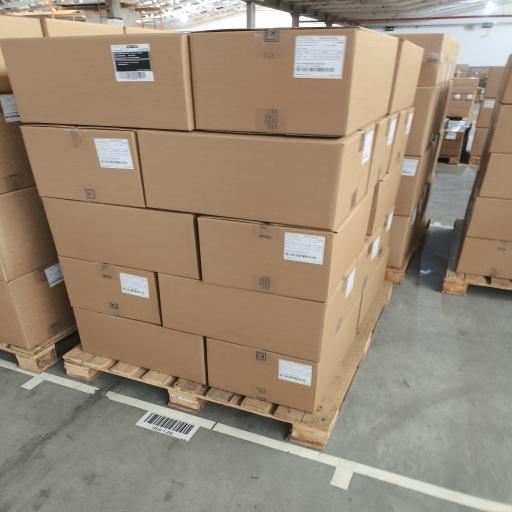pallet: (64, 282, 392, 449), (443, 218, 511, 295), (0, 325, 79, 374), (385, 214, 432, 284), (439, 156, 460, 164), (469, 156, 480, 165), (448, 117, 471, 121)
